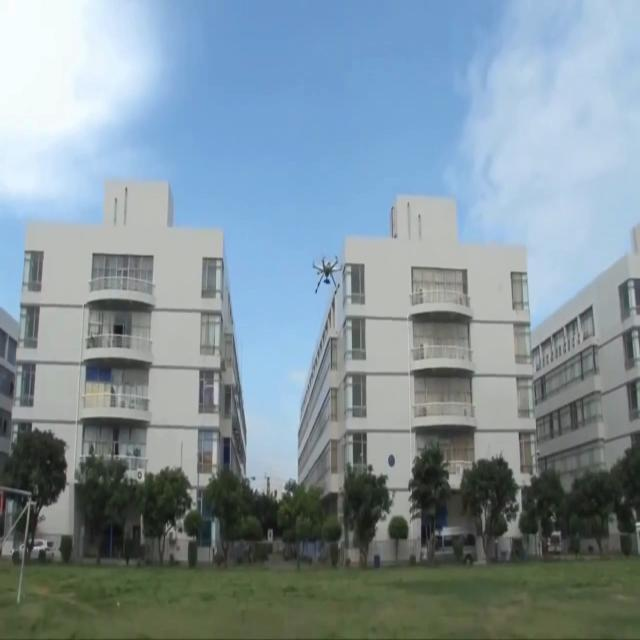drone: (312, 254, 342, 294)
